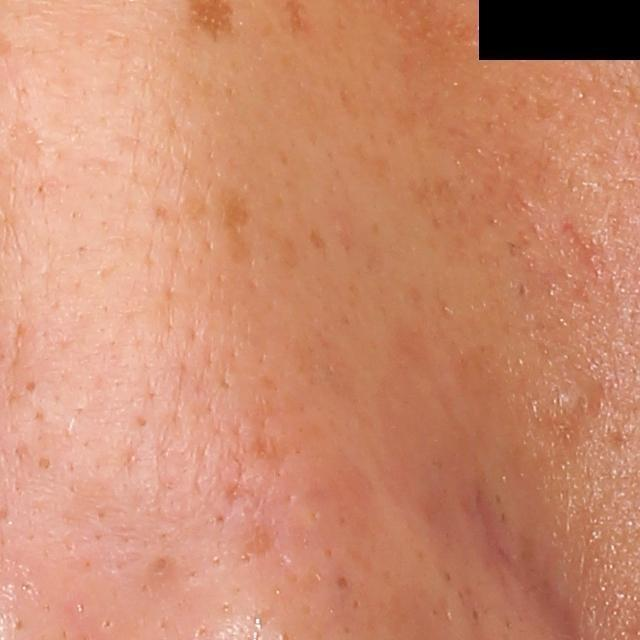comedo: (559, 373, 605, 422), (21, 377, 40, 396), (35, 452, 53, 471), (335, 574, 351, 590)
melasma: (217, 191, 254, 269), (309, 224, 333, 252)
